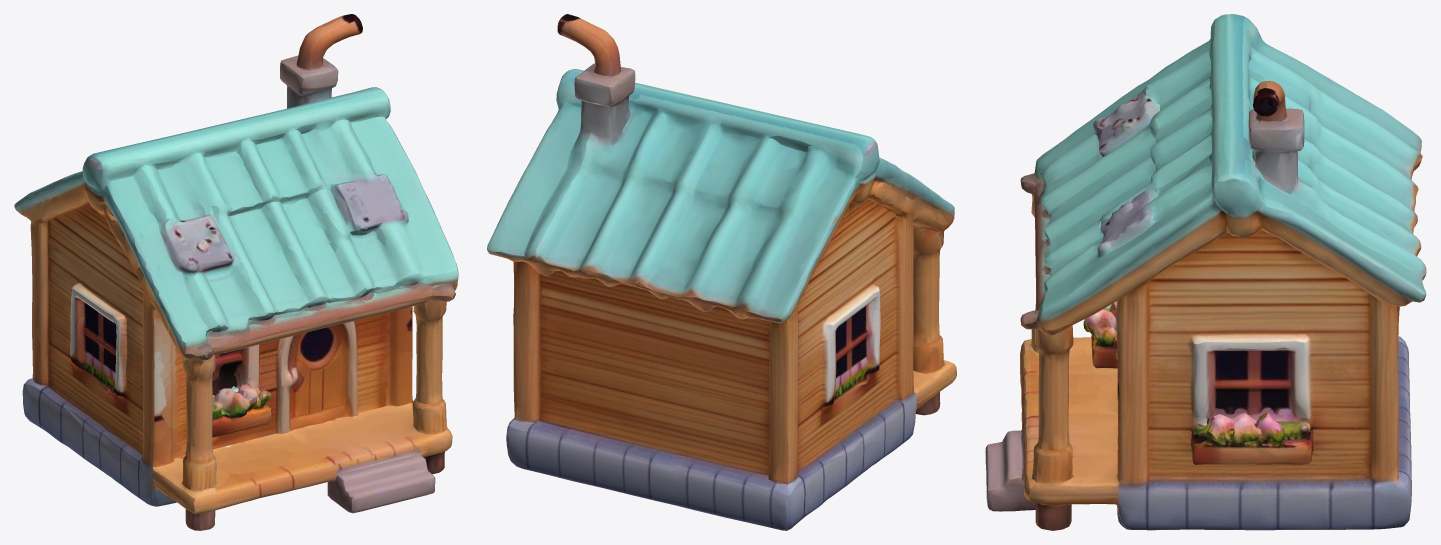
Rendered from farmhouse.glb.
3 renders of one model, left to right at view 1: azimuth 30°, elevation 25°; view 2: azimuth 150°, elevation 25°; view 3: azimuth 270°, elevation 25°, orthographic. The views are drawn at different scales.
Visible parts, largest first — view 1: farmhouse; view 2: farmhouse; view 3: farmhouse.
Part boxes in pixels (left/top/right/bottom): farmhouse: left=14, top=14, right=458, bottom=530; farmhouse: left=487, top=14, right=956, bottom=530; farmhouse: left=985, top=14, right=1426, bottom=530.
Size of the model in its own units: 0.8064 by 1 by 0.9048.
Materials: 1 (1 with a texture image).
